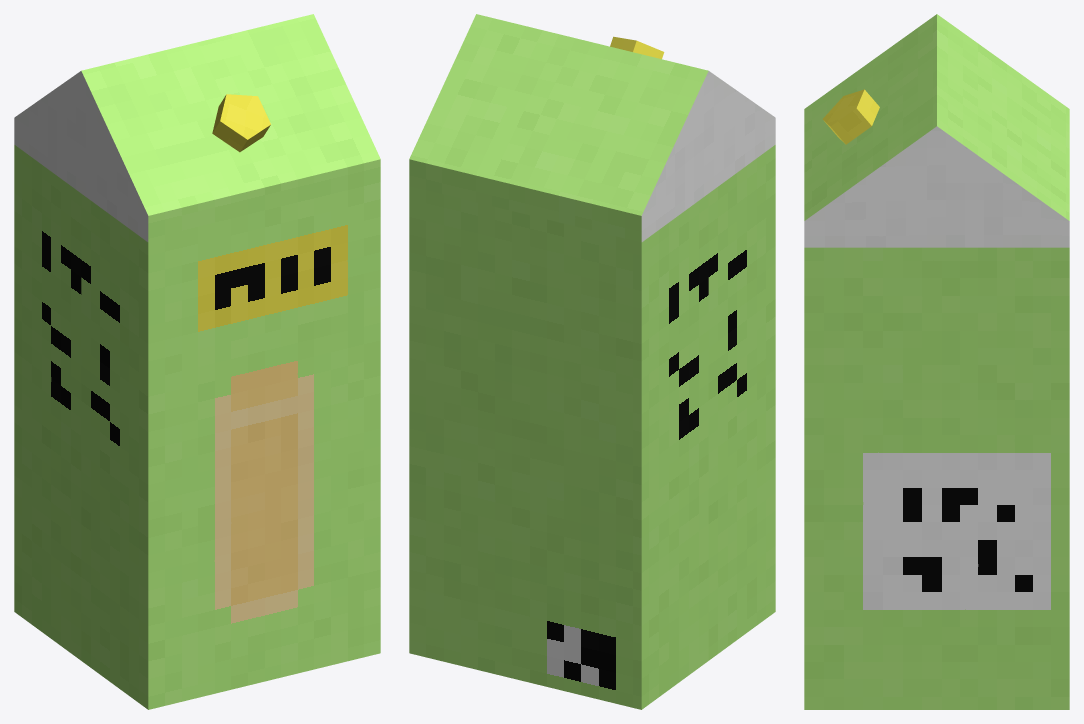
The model's file is JuiceBox 1.fbx.
3 views of the same model, side by side, from view 1: azimuth 30°, elevation 25°; view 2: azimuth 150°, elevation 25°; view 3: azimuth 270°, elevation 25° (orthographic).
Parts seen in each view (by area): view 1: juice; view 2: juice; view 3: juice.
Part boxes in pixels (x1=…): juice: x1=14, y1=14, x2=380, y2=709; juice: x1=409, y1=14, x2=775, y2=709; juice: x1=804, y1=14, x2=1069, y2=709.
Bounding box in the file's own units: 9.57 × 23.23 × 9.57.
